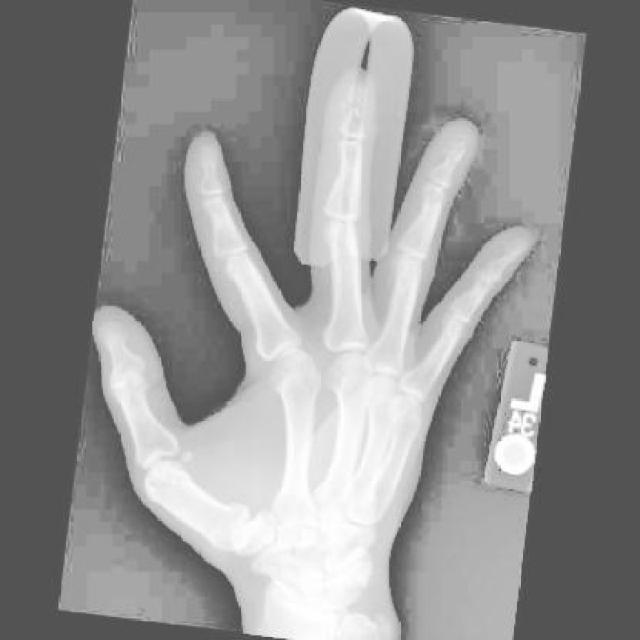Fracture: (337, 79, 370, 122), (440, 131, 469, 157)
